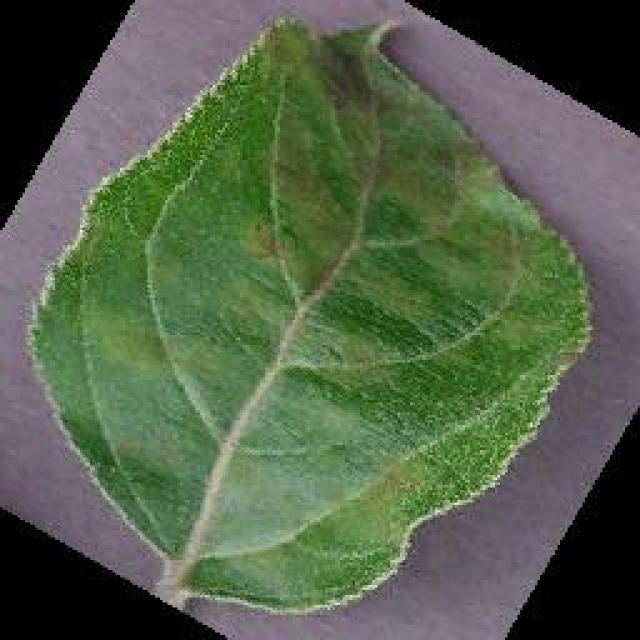apple scab disease: (23, 10, 595, 618)
